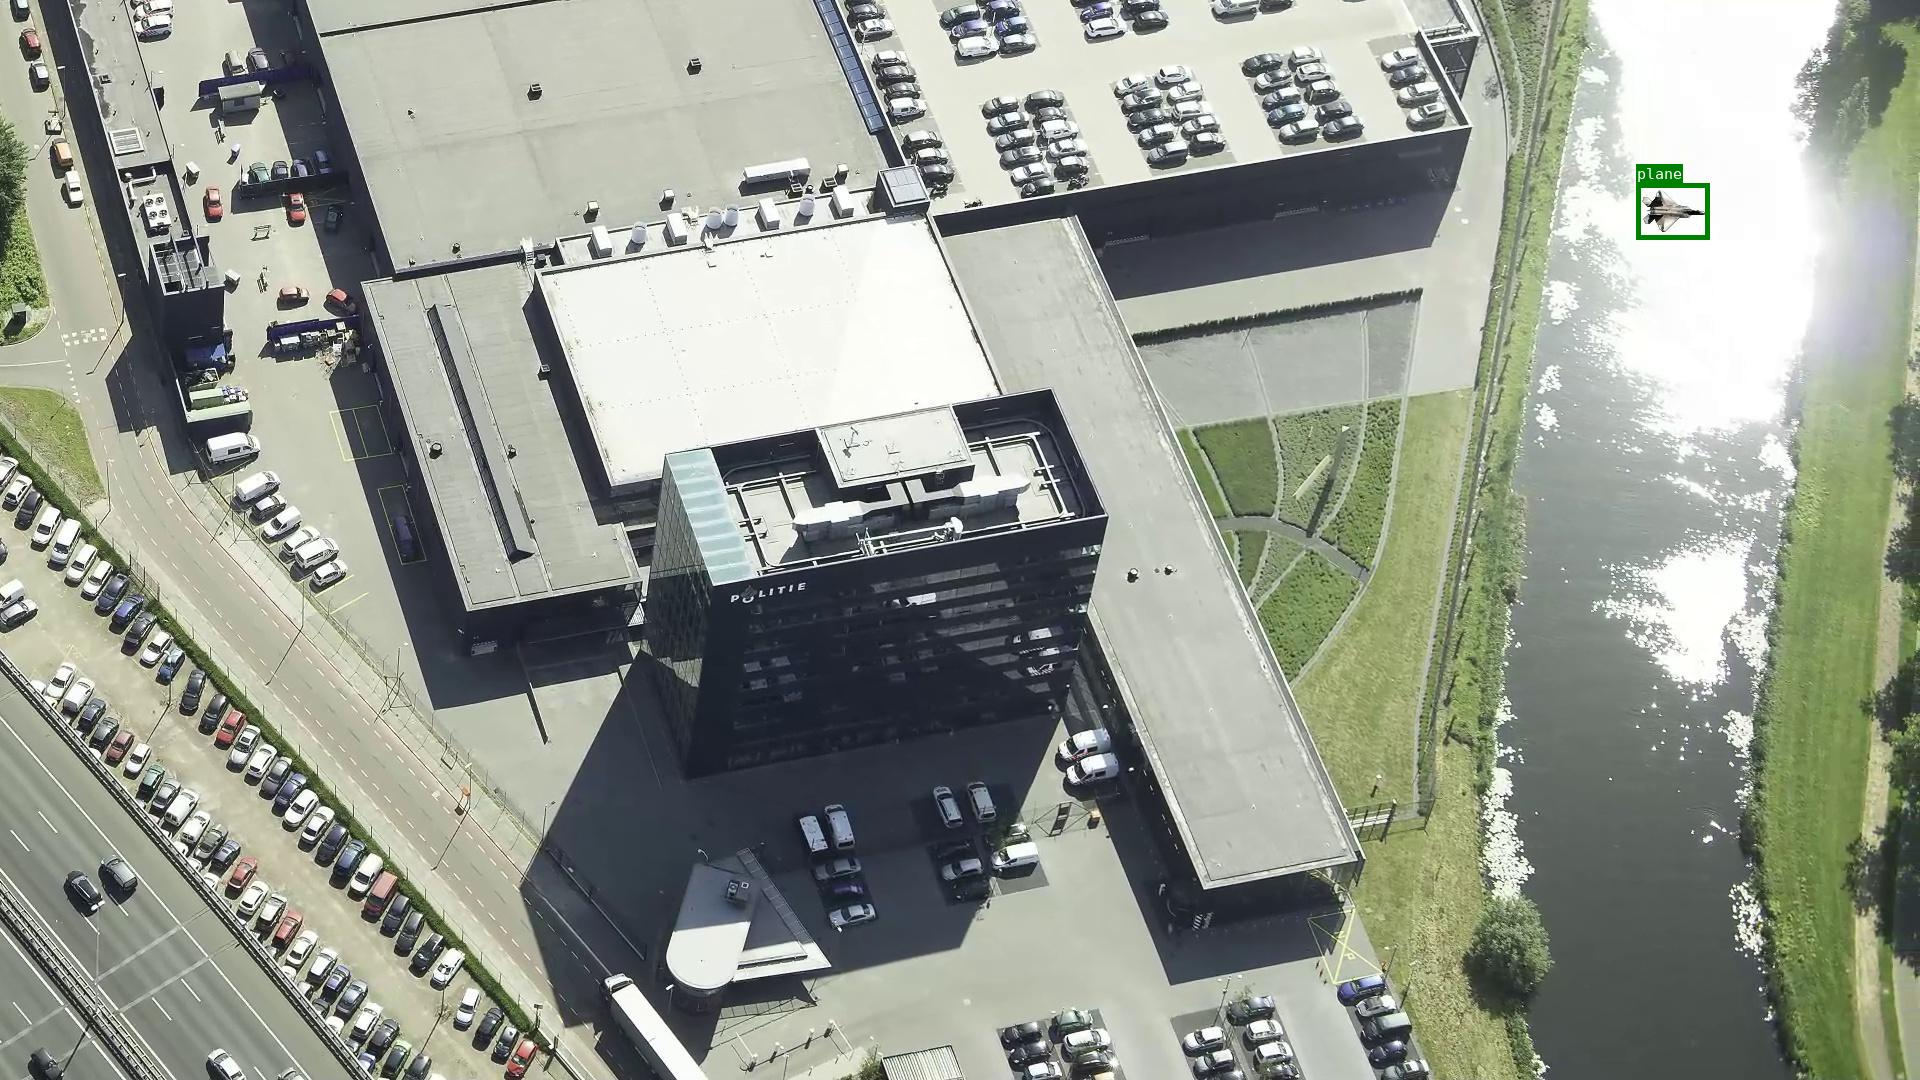plane: (1636, 183, 1709, 239)
